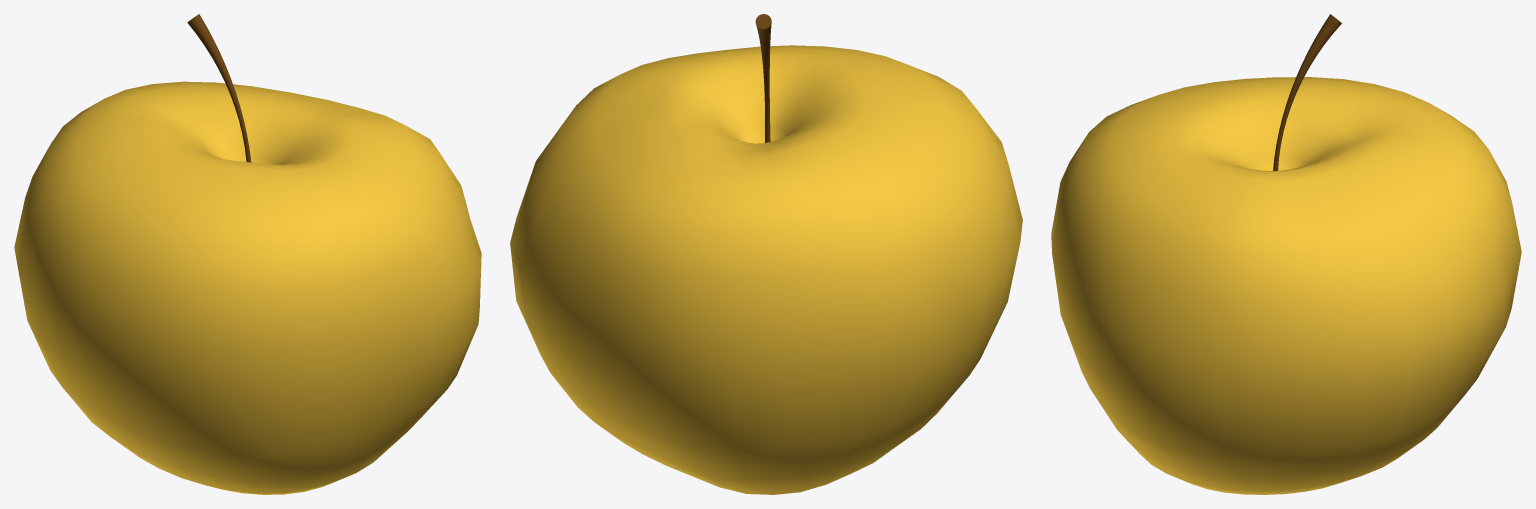
File: Apple_Yellow.FBX
3 views of the same model, side by side, from view 1: azimuth 30°, elevation 25°; view 2: azimuth 150°, elevation 25°; view 3: azimuth 270°, elevation 25° (orthographic). The views are drawn at different scales.
Visible parts, largest first — view 1: Apple_001; view 2: Apple_001; view 3: Apple_001.
Part boxes in pixels (left/top/right/bottom): Apple_001: left=14, top=14, right=481, bottom=494; Apple_001: left=510, top=14, right=1022, bottom=494; Apple_001: left=1051, top=14, right=1521, bottom=494.
Size of the model in its own units: 9.46 by 9.58 by 9.52.
1 material, 1 textured.
